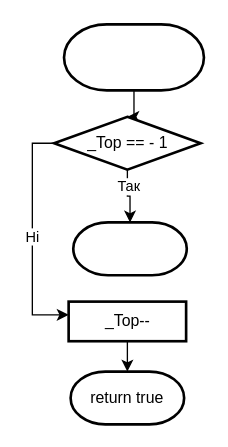
Image size: 228x447. Some labels were removed from this diagram. The shapes that lost their labels are listed below. From the top down, each one's centre as x and y in pixels, then its label:
[133,56]: public bool Pop()
[129,248]: return false
